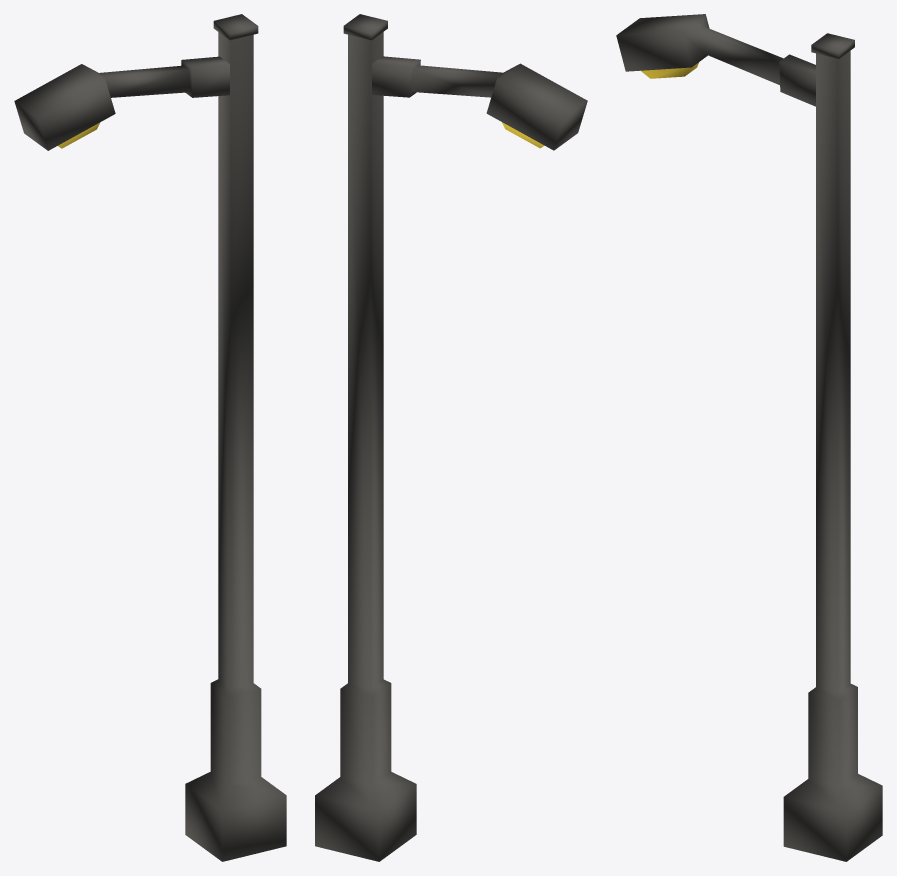
Rendered from lamppost.fbx.
3 renders of one model, left to right at view 1: azimuth 30°, elevation 25°; view 2: azimuth 150°, elevation 25°; view 3: azimuth 330°, elevation 25°, orthographic. The views are drawn at different scales.
Parts seen in each view (by area): view 1: Light.001; view 2: Light.001; view 3: Light.001.
Part boxes in pixels (x1,y1,x2,y2): Light.001: (14, 14, 286, 861); Light.001: (315, 14, 587, 861); Light.001: (616, 14, 882, 861).
Size of the model in its own units: 276 by 890 by 73.26.
1 material, 1 textured.
